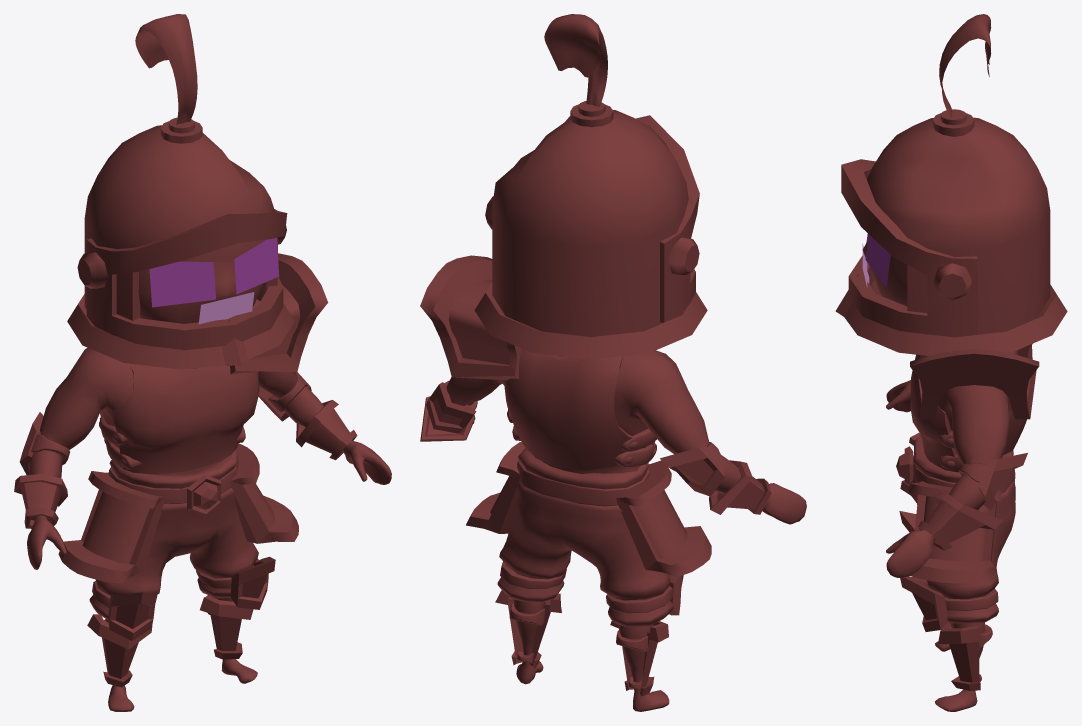
Rendered from Knight_Undead_Final.fbx.
3 renders of one model, left to right at view 1: azimuth 30°, elevation 25°; view 2: azimuth 150°, elevation 25°; view 3: azimuth 270°, elevation 25°, orthographic. The views are drawn at different scales.
Parts seen in each view (by area): view 1: Knight_Head_Undead, Knight_Torso_Undead, Knight_Legs_Undead, Character_Eyes, Character_Mouth; view 2: Knight_Head_Undead, Knight_Torso_Undead, Knight_Legs_Undead; view 3: Knight_Head_Undead, Knight_Torso_Undead, Knight_Legs_Undead, Character_Eyes.
Boxes of the visible parts, bbox=[...] form: Knight_Head_Undead: bbox=[67, 14, 294, 369]; Knight_Torso_Undead: bbox=[14, 253, 391, 569]; Knight_Legs_Undead: bbox=[58, 443, 298, 711]; Character_Eyes: bbox=[149, 238, 279, 307]; Character_Mouth: bbox=[198, 292, 254, 324]; Knight_Head_Undead: bbox=[474, 14, 707, 359]; Knight_Torso_Undead: bbox=[420, 255, 806, 524]; Knight_Legs_Undead: bbox=[466, 441, 711, 711]; Knight_Head_Undead: bbox=[835, 14, 1067, 355]; Knight_Torso_Undead: bbox=[886, 343, 1039, 577]; Knight_Legs_Undead: bbox=[896, 432, 1015, 711]; Character_Eyes: bbox=[865, 233, 890, 287].
Size of the model in its own units: 134 by 241 by 76.74.
